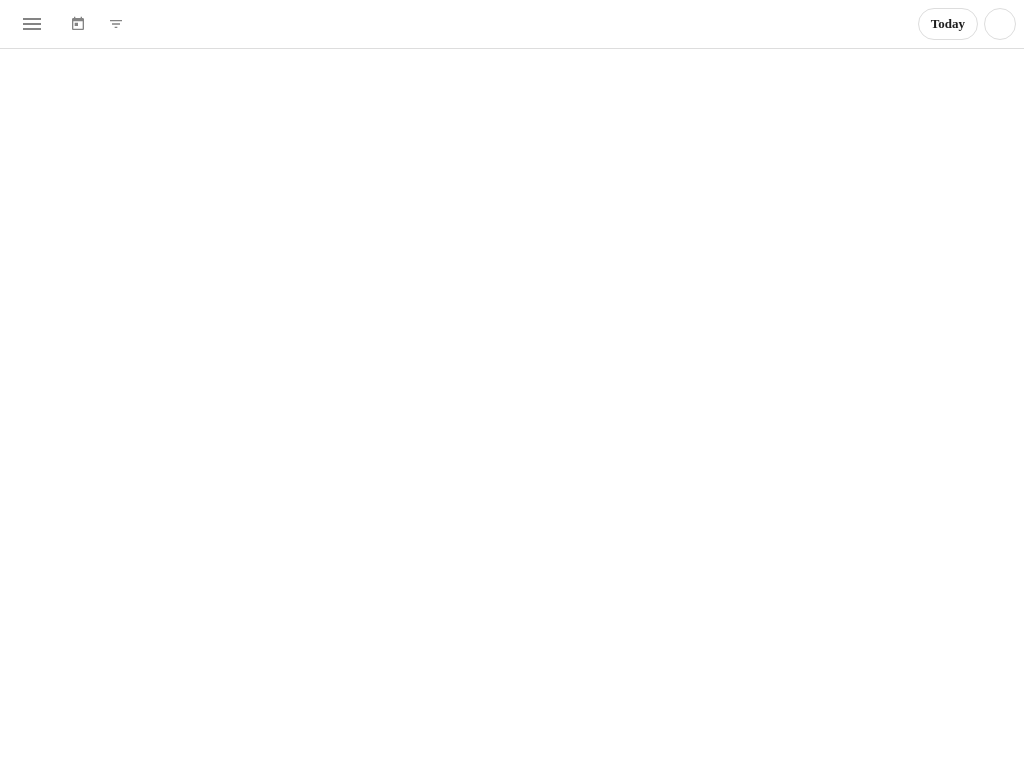
MobileAppNavigation › opens the profile bottom sheet with ProfileCard content for a signed-in user
Click the button named "Account": (1000, 24) [984,8,1016,40]
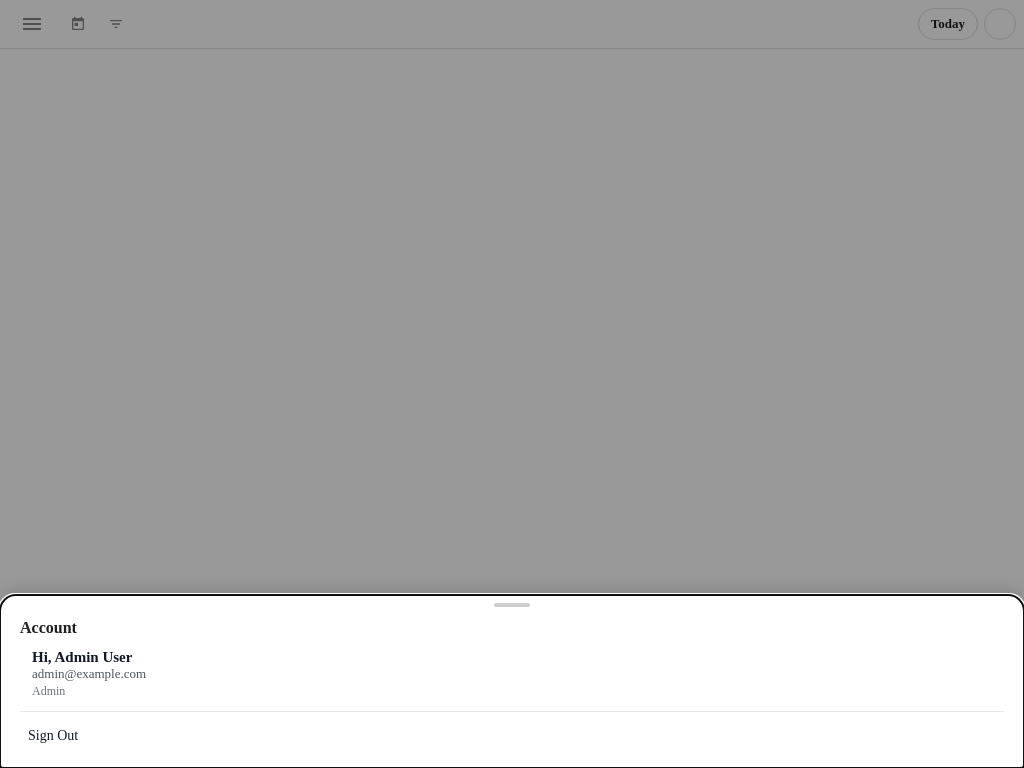
expect the dialog "Account" is shown: met, box [0,595,1023,767]
expect the text "Hi, Admin User" is shown: met, box [32,649,146,666]
